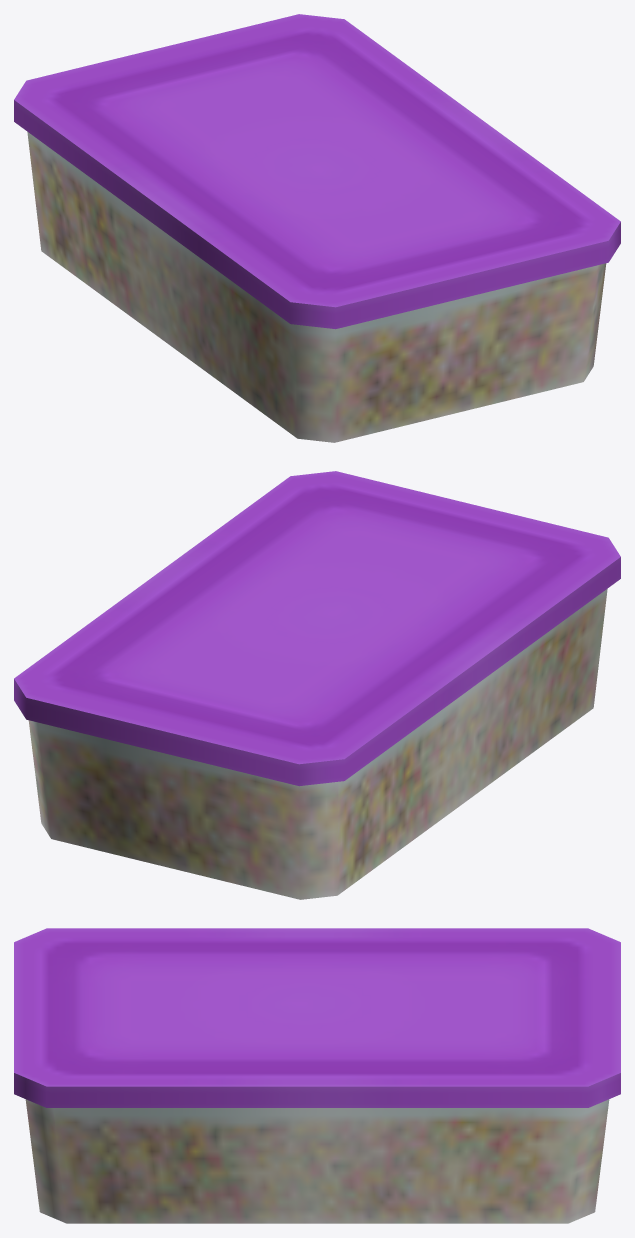
Rendered from jsf_Ingredient_RaibowSprinkles_02.fbx.
3 views of the same model, one above another, from view 1: azimuth 30°, elevation 25°; view 2: azimuth 150°, elevation 25°; view 3: azimuth 270°, elevation 25° (orthographic). The views are drawn at different scales.
Visible parts, largest first — view 1: Lid, Body; view 2: Lid, Body; view 3: Lid, Body.
Boxes of the visible parts, box(x1,y1,x2,y2) form: Lid: box(14, 14, 620, 329); Body: box(27, 132, 606, 442); Lid: box(14, 471, 620, 786); Body: box(28, 589, 607, 899); Lid: box(14, 928, 620, 1107); Body: box(25, 1099, 609, 1223).
Size of the model in its own units: 16.6 by 7.11 by 26.93.
